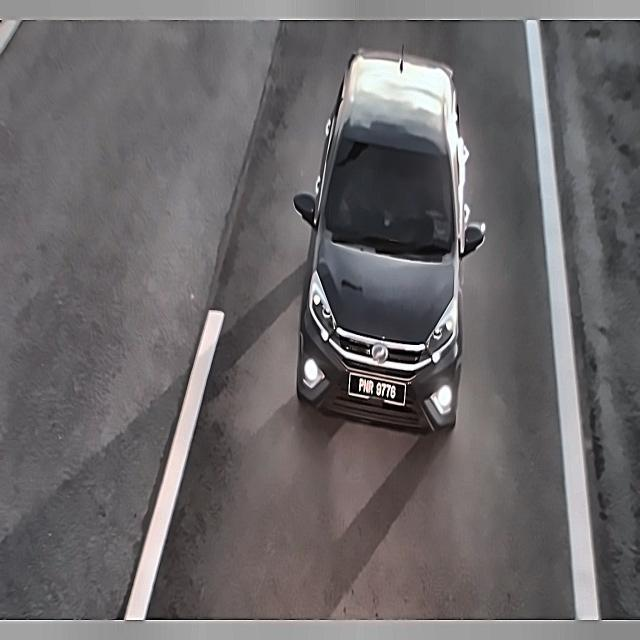car: (342, 364, 410, 411)
